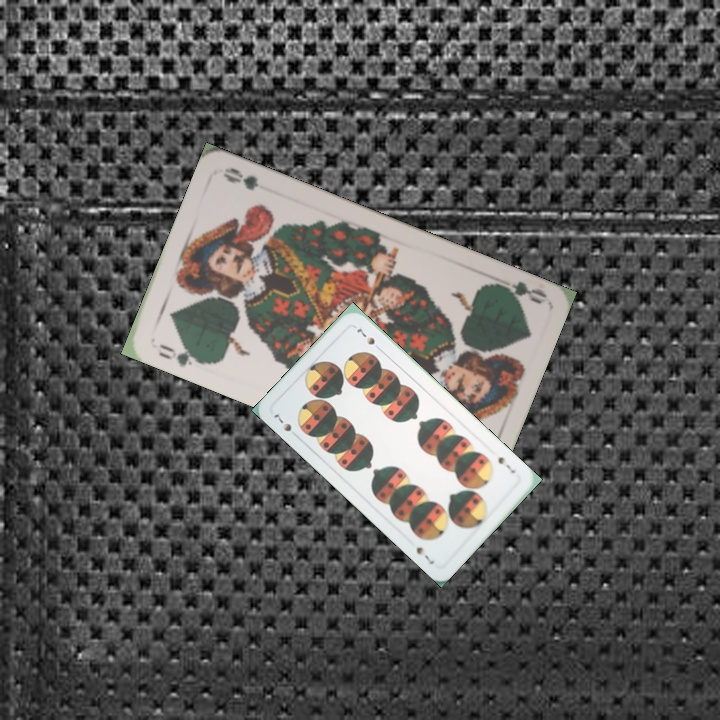GO: (488, 277, 548, 307), (154, 339, 207, 369)
S7: (269, 410, 294, 434), (494, 453, 518, 476)
